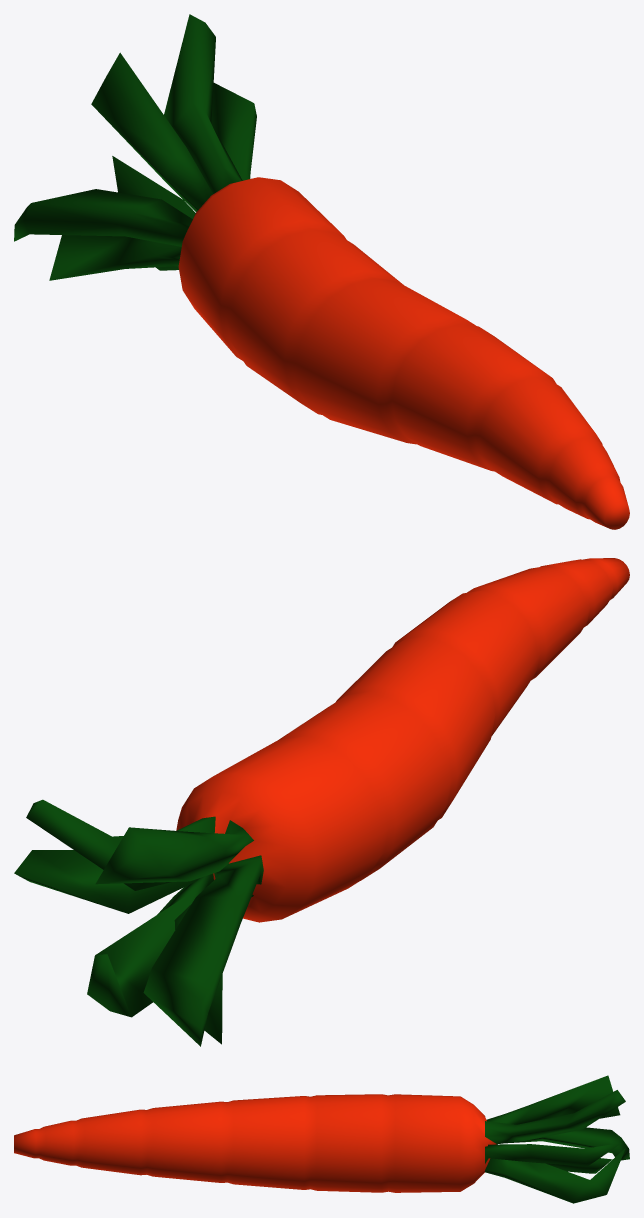
The model's file is Carrott.FBX.
3 views of the same model, one above another, from view 1: azimuth 30°, elevation 25°; view 2: azimuth 150°, elevation 25°; view 3: azimuth 270°, elevation 25° (orthographic). The views are drawn at different scales.
Visible parts, largest first — view 1: Cylinder001; view 2: Cylinder001; view 3: Cylinder001.
Boxes of the visible parts, x1,y1,x2,y2 form: Cylinder001: (14, 14, 629, 529); Cylinder001: (14, 558, 629, 1046); Cylinder001: (14, 1075, 629, 1203).
Size of the model in its own units: 20.1 by 20.07 by 85.54.
